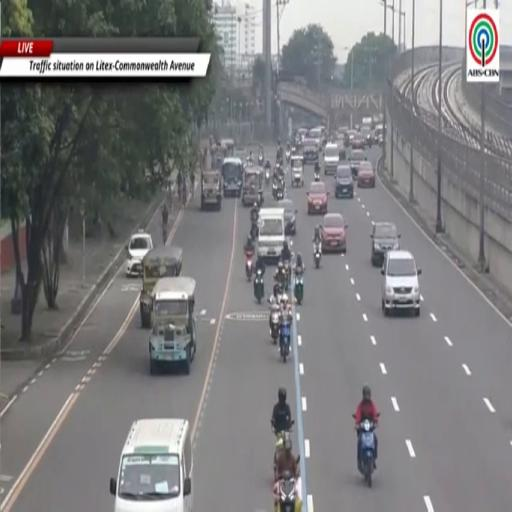car: (381, 250, 421, 315), (370, 222, 400, 266), (126, 230, 153, 276), (322, 213, 347, 252), (307, 182, 328, 214), (278, 200, 297, 235), (335, 165, 353, 198), (324, 143, 339, 174), (349, 150, 365, 179), (358, 160, 375, 187), (303, 139, 318, 164), (351, 133, 366, 150), (361, 126, 373, 147), (344, 129, 357, 147)
jeepney: (149, 277, 196, 374), (140, 246, 182, 328), (222, 157, 244, 197), (201, 170, 222, 211), (242, 166, 263, 206), (212, 143, 227, 168), (291, 155, 303, 186), (221, 138, 235, 156)
motorcycle: (357, 420, 375, 487), (273, 420, 294, 472), (275, 472, 297, 511), (280, 312, 292, 362), (270, 305, 280, 345), (254, 269, 264, 303), (294, 274, 303, 305), (246, 251, 253, 280), (313, 244, 321, 268), (284, 261, 290, 292), (250, 221, 258, 241), (276, 183, 284, 200), (273, 182, 278, 200), (265, 168, 270, 186), (314, 171, 320, 182), (258, 153, 263, 166), (286, 150, 290, 163)
truck: (258, 208, 285, 261)
